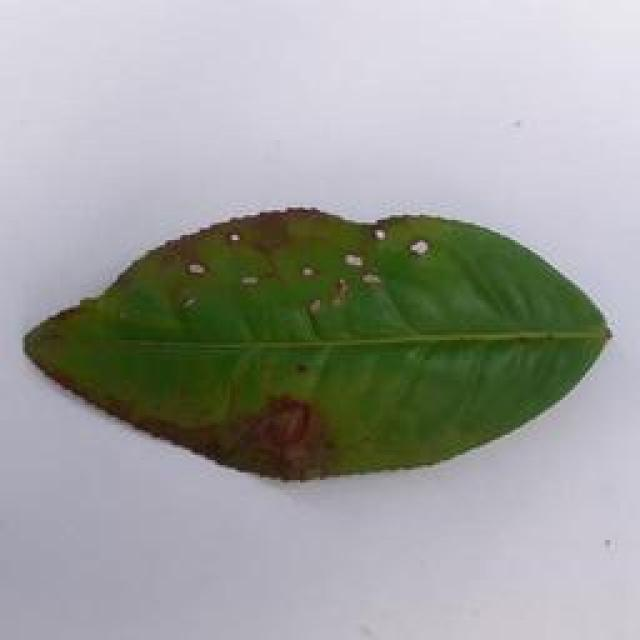Red Leaf Spot: (22, 204, 640, 482)
